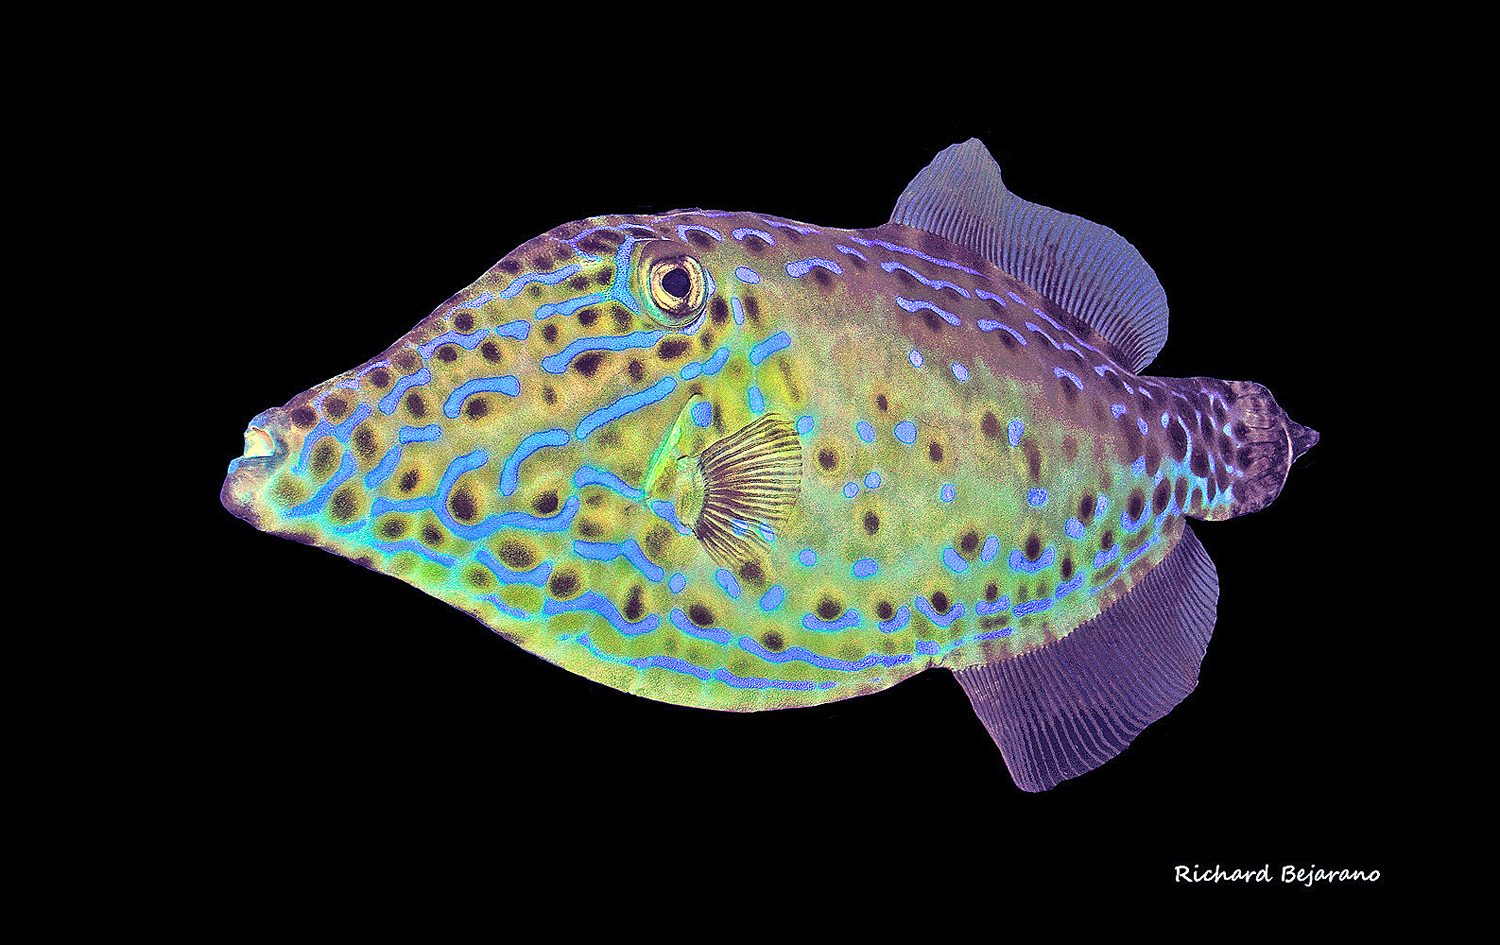Aluterus_scriptus: (204, 107, 1333, 810)
